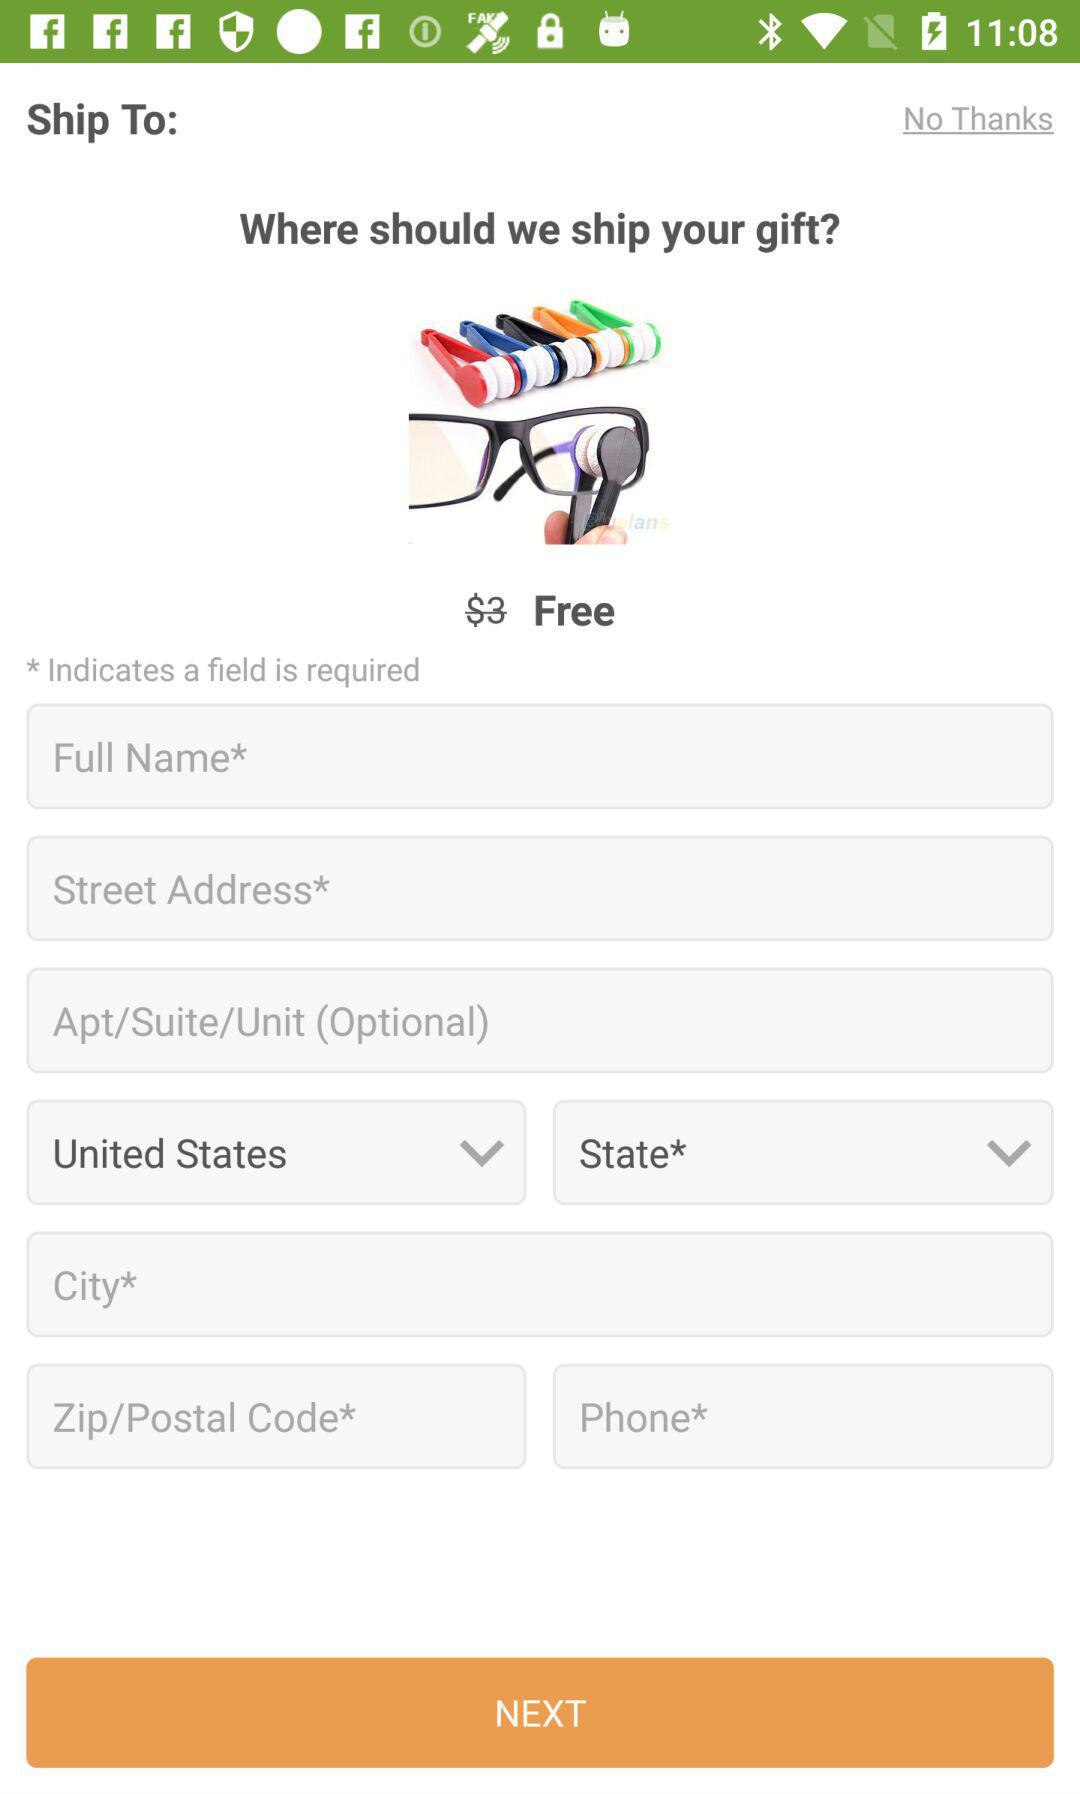EditText: (26, 704, 1054, 810), (27, 1231, 1054, 1338), (27, 967, 1054, 1074), (27, 835, 1054, 942), (553, 1362, 1054, 1470), (27, 1363, 528, 1470)
Image: (409, 299, 671, 546)
Text: (240, 211, 840, 255), (54, 1005, 489, 1044), (27, 657, 421, 689), (54, 1401, 357, 1442), (55, 875, 332, 906), (56, 741, 249, 774), (28, 103, 178, 145), (903, 106, 1054, 136), (582, 1401, 708, 1433), (55, 1270, 138, 1310), (536, 595, 616, 628), (465, 592, 509, 629)
TextButton: (27, 1657, 1054, 1768), (553, 1099, 1054, 1206), (27, 1099, 528, 1206)
UpperTaskBar: (1, 1, 1080, 64)
